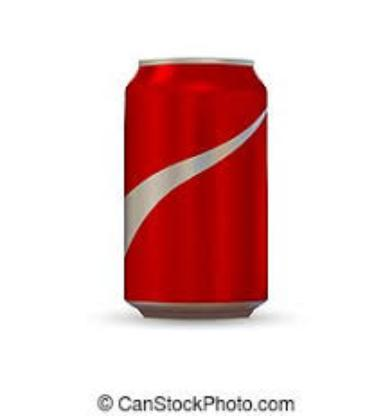Can: (122, 54, 273, 326)
